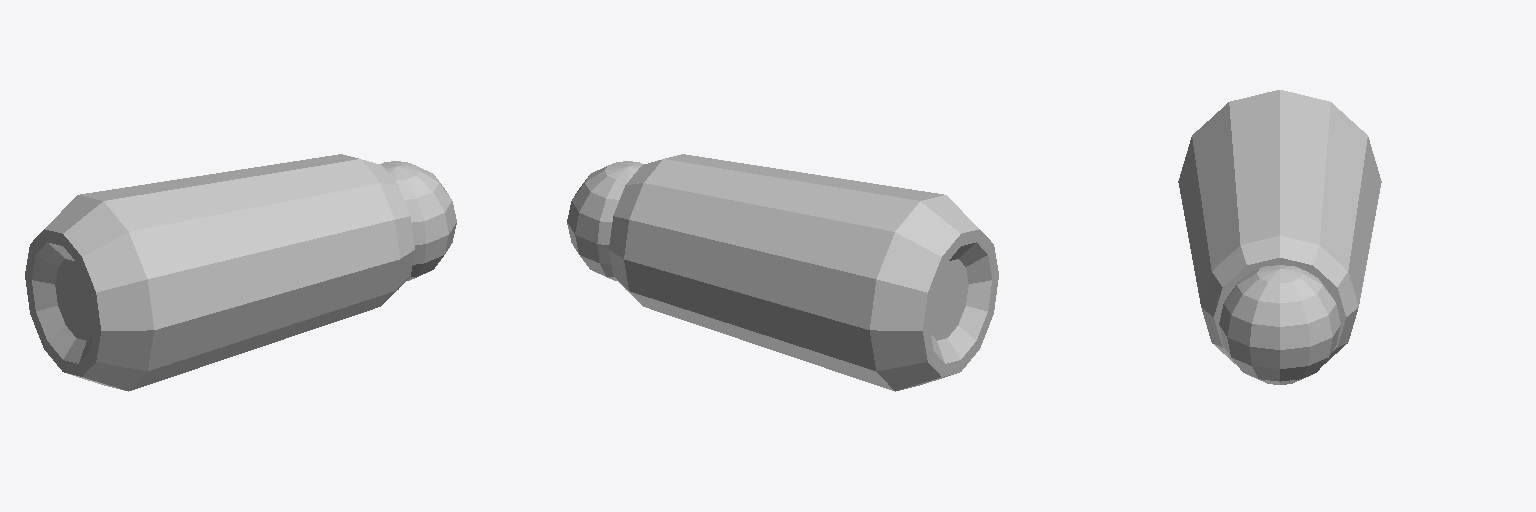
File: arm2.obj
3 renders of one model, left to right at view 1: azimuth 30°, elevation 25°; view 2: azimuth 150°, elevation 25°; view 3: azimuth 270°, elevation 25°, orthographic.
Parts seen in each view (by area): view 1: dummy_hips3_dummy_belly_dummy_torso_dummy_lshoulder_dummy_larm, dummy_hips3_dummy_belly_dummy_torso_dummy_lshoulder_dummy_larm_; view 2: dummy_hips3_dummy_belly_dummy_torso_dummy_lshoulder_dummy_larm, dummy_hips3_dummy_belly_dummy_torso_dummy_lshoulder_dummy_larm_; view 3: dummy_hips3_dummy_belly_dummy_torso_dummy_lshoulder_dummy_larm, dummy_hips3_dummy_belly_dummy_torso_dummy_lshoulder_dummy_larm_.
Part boxes in pixels (bbox=[...]): dummy_hips3_dummy_belly_dummy_torso_dummy_lshoulder_dummy_larm: bbox=[25, 154, 414, 391]; dummy_hips3_dummy_belly_dummy_torso_dummy_lshoulder_dummy_larm_: bbox=[380, 161, 456, 280]; dummy_hips3_dummy_belly_dummy_torso_dummy_lshoulder_dummy_larm: bbox=[609, 154, 998, 391]; dummy_hips3_dummy_belly_dummy_torso_dummy_lshoulder_dummy_larm_: bbox=[567, 161, 643, 280]; dummy_hips3_dummy_belly_dummy_torso_dummy_lshoulder_dummy_larm: bbox=[1178, 90, 1381, 364]; dummy_hips3_dummy_belly_dummy_torso_dummy_lshoulder_dummy_larm_: bbox=[1219, 265, 1340, 384].
Bounding box in the file's own units: 28.64 × 13.07 × 13.07.